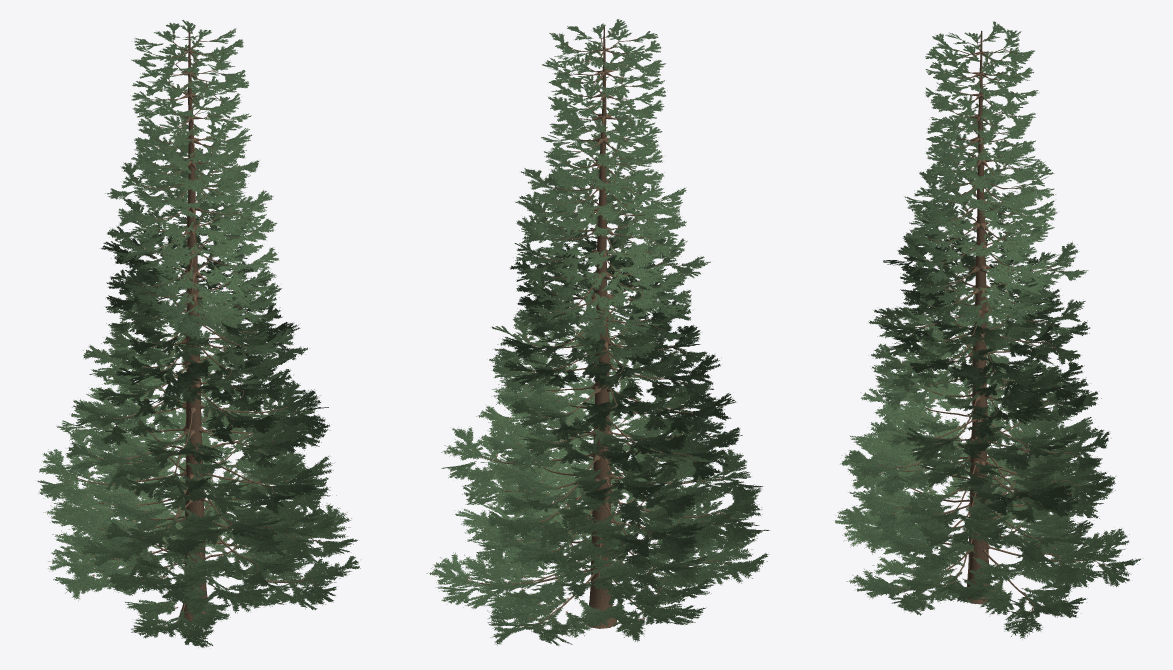
The model's file is Scenery_Spruce.fbx.
3 renders of one model, left to right at view 1: azimuth 30°, elevation 25°; view 2: azimuth 150°, elevation 25°; view 3: azimuth 270°, elevation 25°, orthographic. The views are drawn at different scales.
Parts seen in each view (by area): view 1: Scenery_Spruce_LOD0; view 2: Scenery_Spruce_LOD0; view 3: Scenery_Spruce_LOD0.
Part boxes in pixels (x1,y1,x2,y2): Scenery_Spruce_LOD0: [37, 20, 360, 647]; Scenery_Spruce_LOD0: [426, 19, 770, 645]; Scenery_Spruce_LOD0: [835, 21, 1140, 639].
Size of what is drawn, in the model's own units: 10.33 by 18.55 by 10.15.
